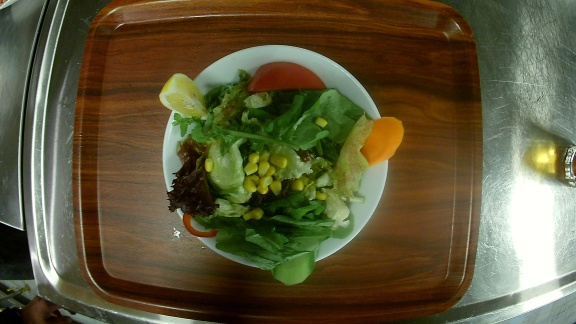salata: (159, 44, 392, 275)
